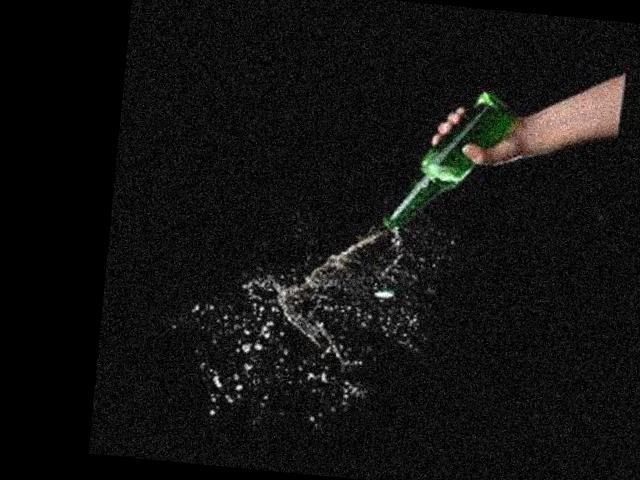beer: (384, 79, 522, 242)
